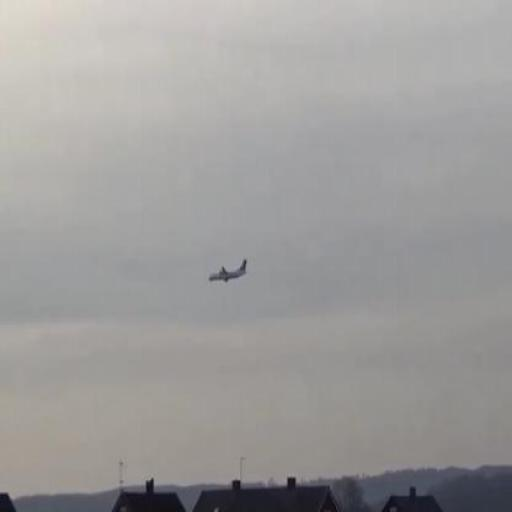aircraft: (207, 258, 247, 287)
